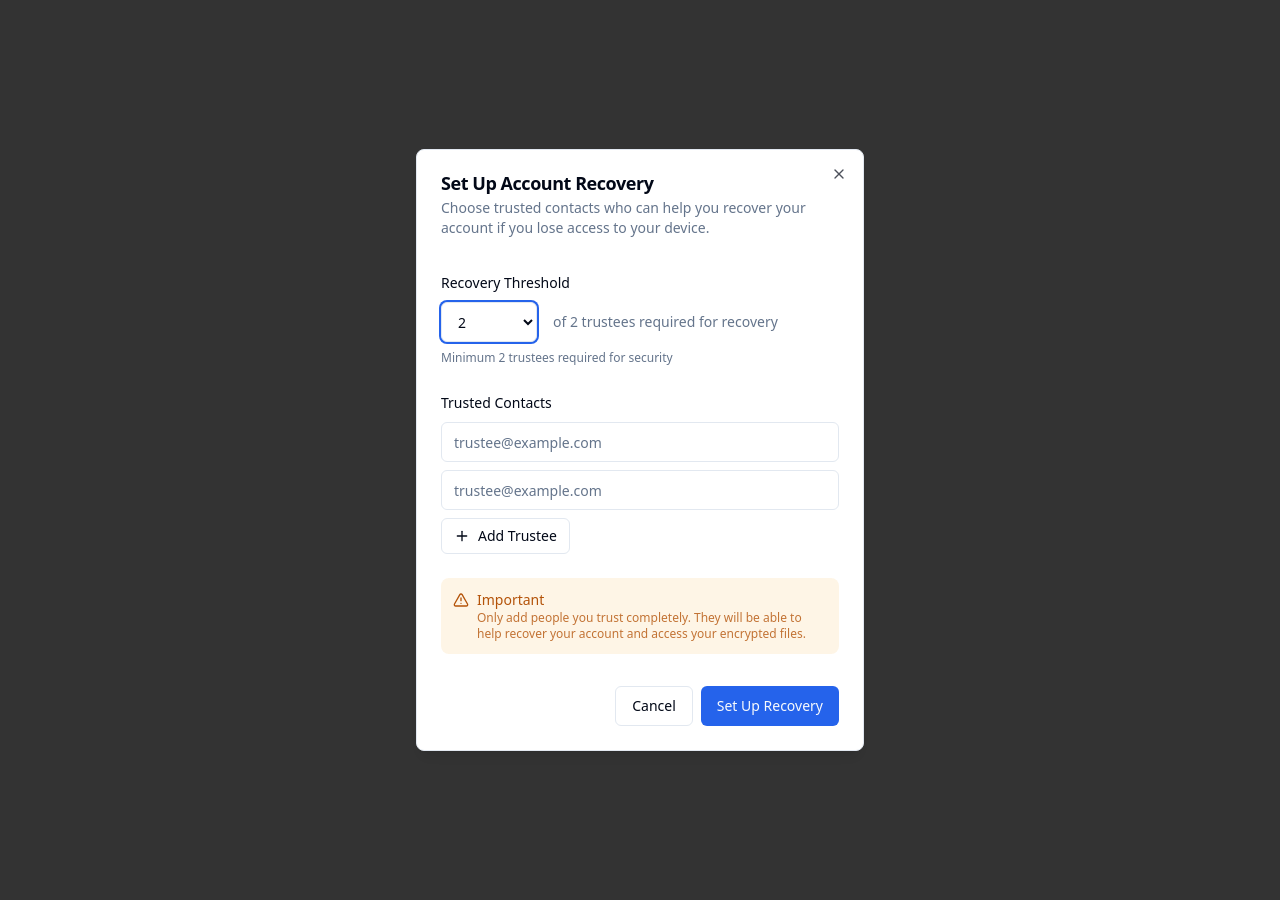
Scenario: RecoverySetupDialog › interactions › should add new email input when Add Trustee is clicked
Click the button "Add Trustee". click: (505, 536)
box: [441,518,570,554]
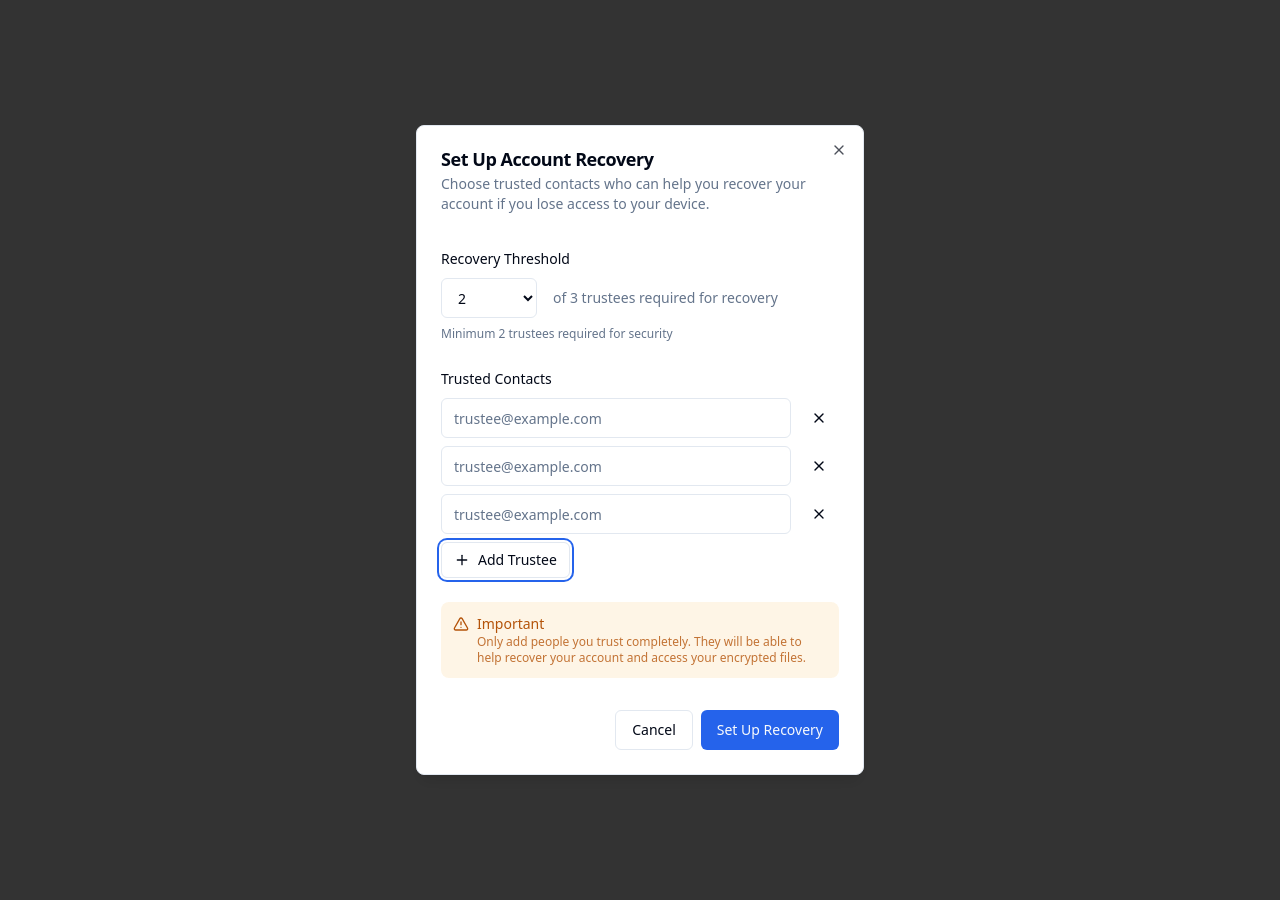
Expected: the number of fields with placeholder "trustee@example.com" is 3, [441,398,791,438]; [441,446,791,486]; [441,494,791,534]
